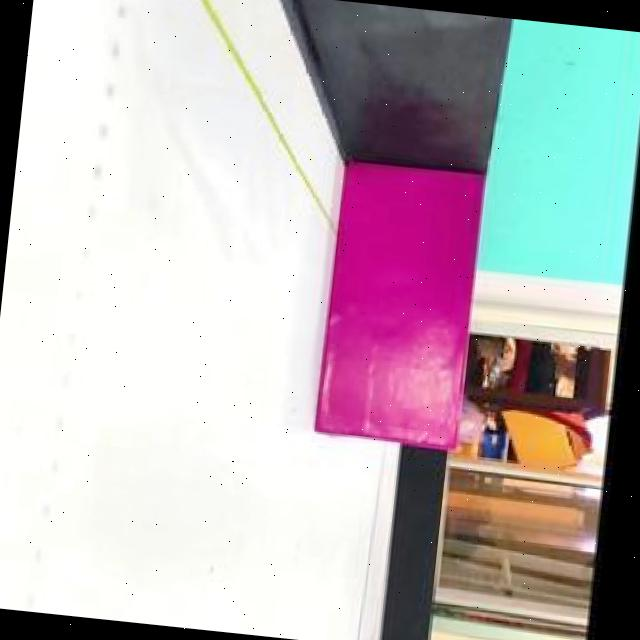xparking: (314, 167, 483, 446)
